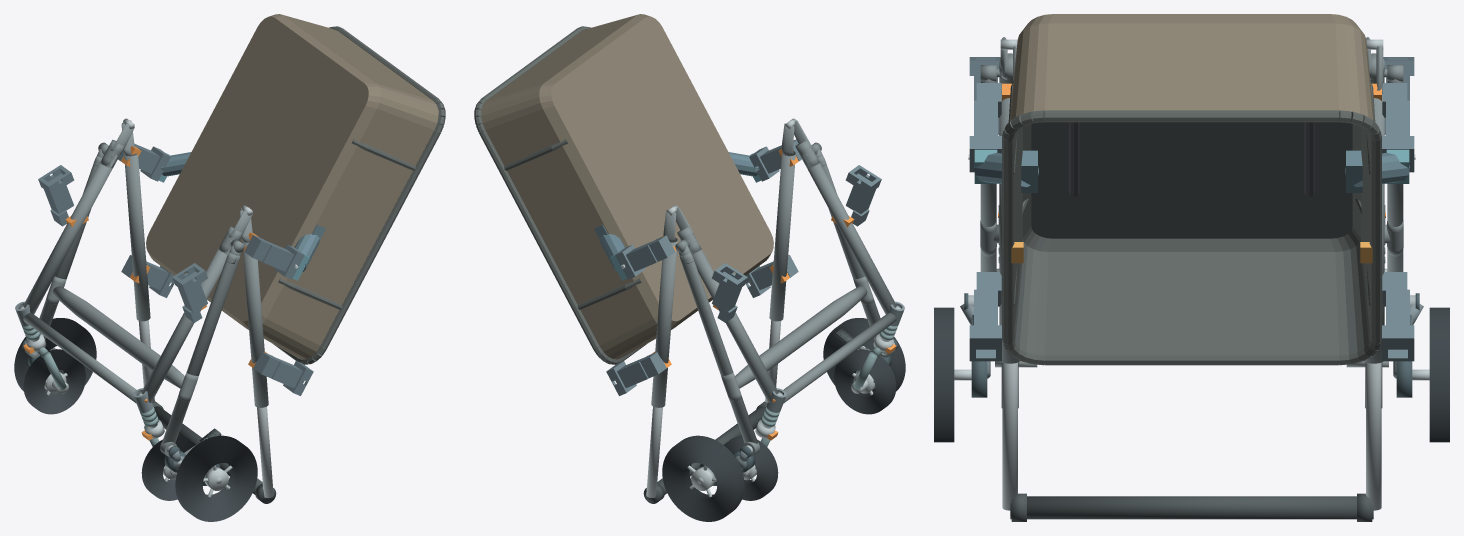
The model's file is S14_w650_state3_wheel_S.glb.
3 views of the same model, side by side, from view 1: azimuth 30°, elevation 25°; view 2: azimuth 150°, elevation 25°; view 3: azimuth 270°, elevation 25° (orthographic). The views are drawn at different scales.
Visible parts, largest first — view 1: S14_Cabin, RL_tire.008, FR_tire.008, V46_rearbar.009, main_lower_1.009, main_upper_1.009, V46_rear_leg_-1.009, main_upper_-1.009, main_lower_-1.009, front_fixed_round_tube.008, RR_tire.008, FL_tire.008 (+10 smaller); view 2: S14_Cabin, RR_tire.008, FL_tire.008, V46_rearbar.009, main_lower_-1.009, main_upper_-1.009, V46_rear_leg_1.009, main_upper_1.009, main_lower_1.009, front_fixed_round_tube.008, FR_tire.008, RL_tire.008 (+10 smaller); view 3: S14_Cabin, round_handle.008, S14_Cabin_Mount_M, RL_tire.008, RR_tire.008, Universal_Cabin_Receiver_H_1, Universal_Cabin_Receiver_H_-1, handle_slider_1.008, handle_slider_-1.008, Universal_Cabin_Receiver_M_-1, Universal_Cabin_Receiver_M_1, V46_rear_leg_1.009 (+5 smaller).
Part boxes in pixels (x1=…): S14_Cabin: x1=146, y1=14, x2=445, y2=364; RL_tire.008: x1=175, y1=435, x2=257, y2=521; FR_tire.008: x1=23, y1=349, x2=85, y2=414; V46_rearbar.009: x1=52, y1=286, x2=184, y2=388; main_lower_1.009: x1=23, y1=155, x2=117, y2=314; main_upper_1.009: x1=124, y1=154, x2=150, y2=321; V46_rear_leg_-1.009: x1=162, y1=252, x2=240, y2=443; main_upper_-1.009: x1=242, y1=241, x2=268, y2=407; main_lower_-1.009: x1=141, y1=247, x2=230, y2=402; front_fixed_round_tube.008: x1=23, y1=312, x2=136, y2=403; RR_tire.008: x1=14, y1=318, x2=96, y2=393; FL_tire.008: x1=141, y1=436, x2=195, y2=500; S14_Cabin: x1=474, y1=14, x2=773, y2=364; RR_tire.008: x1=662, y1=435, x2=744, y2=521; FL_tire.008: x1=834, y1=349, x2=896, y2=414; V46_rearbar.009: x1=735, y1=286, x2=867, y2=388; main_lower_-1.009: x1=802, y1=155, x2=896, y2=314; main_upper_-1.009: x1=769, y1=153, x2=795, y2=321; V46_rear_leg_1.009: x1=679, y1=252, x2=757, y2=443; main_upper_1.009: x1=651, y1=240, x2=677, y2=407; main_lower_1.009: x1=689, y1=247, x2=778, y2=402; front_fixed_round_tube.008: x1=783, y1=312, x2=896, y2=403; FR_tire.008: x1=724, y1=436, x2=778, y2=500; RL_tire.008: x1=823, y1=318, x2=905, y2=393; S14_Cabin: x1=1002, y1=14, x2=1381, y2=365; round_handle.008: x1=1010, y1=496, x2=1373, y2=519; S14_Cabin_Mount_M: x1=968, y1=149, x2=1415, y2=192; RL_tire.008: x1=934, y1=307, x2=954, y2=442; RR_tire.008: x1=1429, y1=307, x2=1449, y2=442; Universal_Cabin_Receiver_H_1: x1=1382, y1=272, x2=1414, y2=361; Universal_Cabin_Receiver_H_-1: x1=969, y1=272, x2=1001, y2=361; handle_slider_1.008: x1=1366, y1=362, x2=1381, y2=510; handle_slider_-1.008: x1=1002, y1=362, x2=1017, y2=510; Universal_Cabin_Receiver_M_-1: x1=969, y1=83, x2=1001, y2=172; Universal_Cabin_Receiver_M_1: x1=1382, y1=83, x2=1414, y2=172; V46_rear_leg_1.009: x1=1387, y1=184, x2=1403, y2=271.
Bounding box in the file's own units: 0.8359 × 0.9659 × 0.766.
